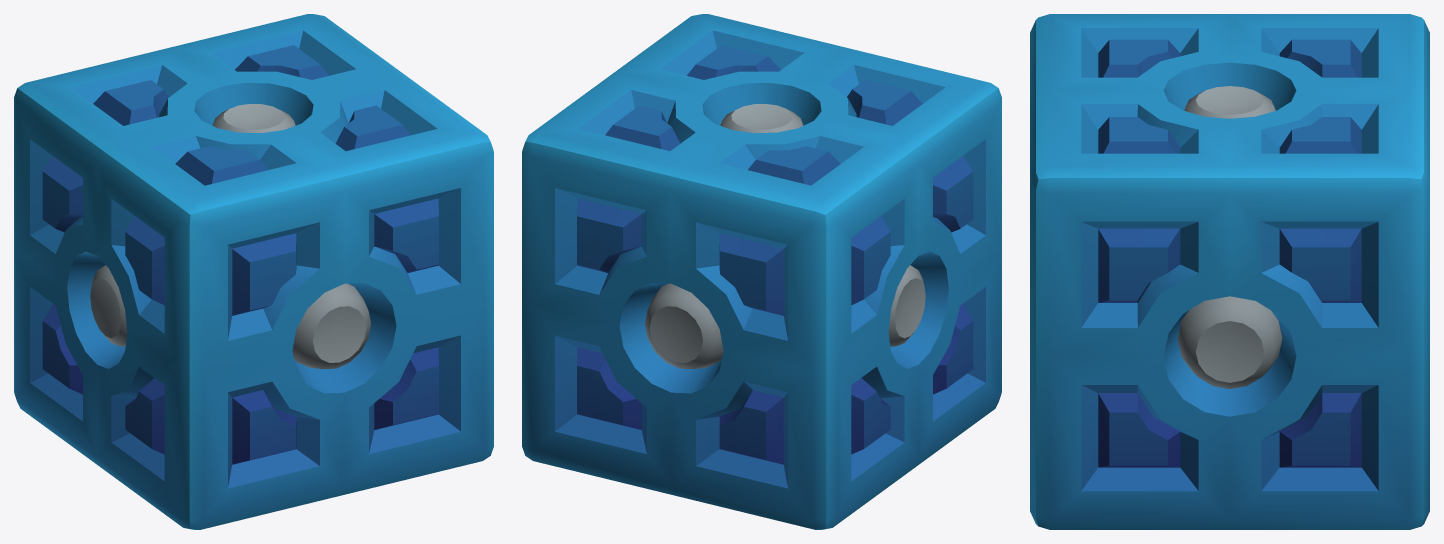
File: decorative_block_blue.glb
3 renders of one model, left to right at view 1: azimuth 30°, elevation 25°; view 2: azimuth 150°, elevation 25°; view 3: azimuth 270°, elevation 25°, orthographic. The views are drawn at different scales.
Parts seen in each view (by area): view 1: decorative_block_blue; view 2: decorative_block_blue; view 3: decorative_block_blue.
Part boxes in pixels (bbox=[...]): decorative_block_blue: bbox=[14, 14, 493, 529]; decorative_block_blue: bbox=[522, 14, 1001, 529]; decorative_block_blue: bbox=[1030, 14, 1429, 529].
Bounding box in the file's own units: 2 × 2 × 2.
1 material, 1 textured.
